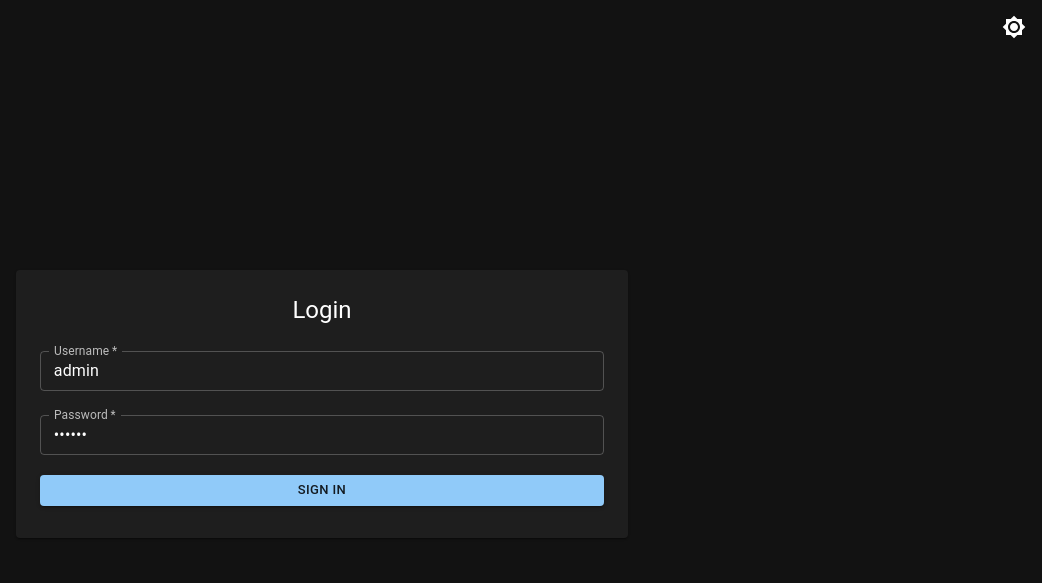
LoginPage › shows error on failed login
Click the button "Sign In" at (322, 490), box [40, 475, 604, 506]
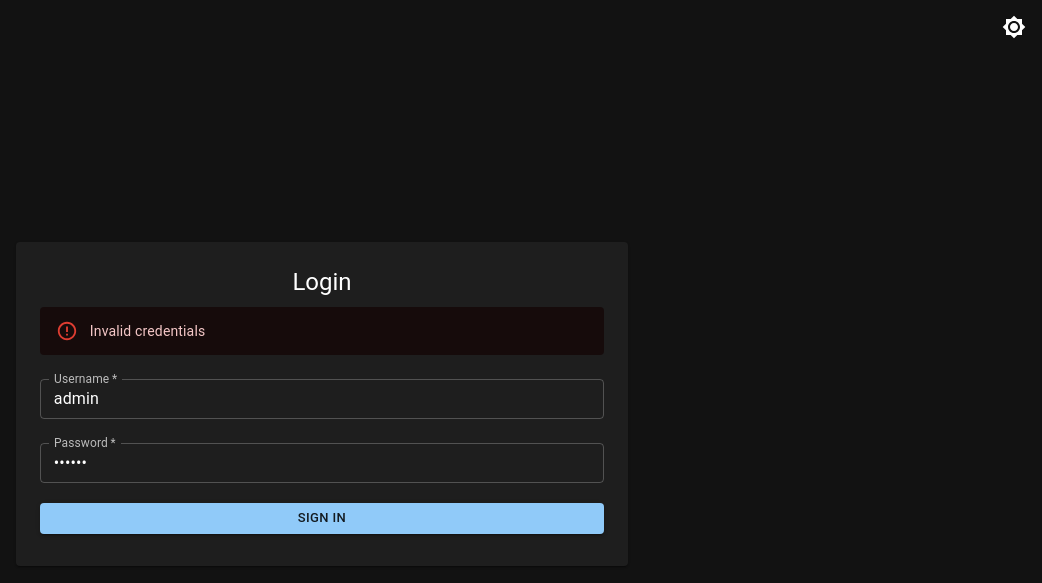
Now the text "Invalid credentials" is shown, box [90, 323, 205, 339]
